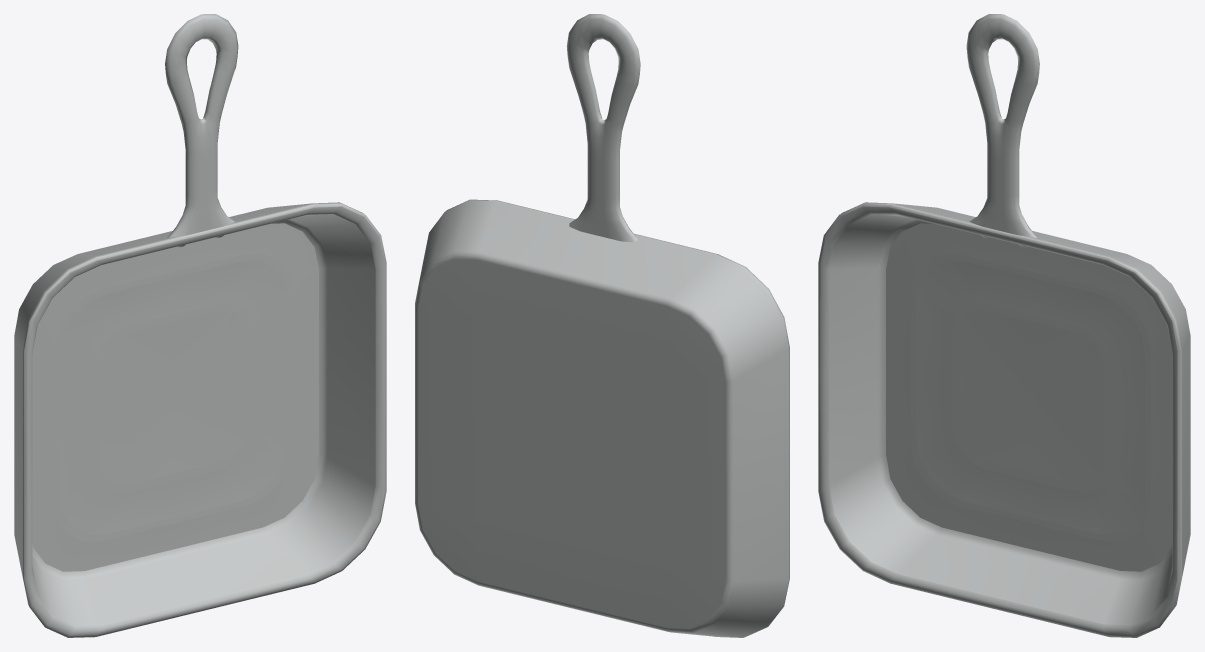
The model's file is MeshPan_4_0_GeomSubset_0.obj.
The picture shows the model from 3 angles, left to right: view 1: azimuth 30°, elevation 25°; view 2: azimuth 150°, elevation 25°; view 3: azimuth 330°, elevation 25°; orthographic projection.
Parts seen in each view (by area): view 1: MeshPan_4_0_GeomSubset_0; view 2: MeshPan_4_0_GeomSubset_0; view 3: MeshPan_4_0_GeomSubset_0.
Boxes of the visible parts, box(x1,y1,x2,y2) form: MeshPan_4_0_GeomSubset_0: box(14, 14, 386, 637); MeshPan_4_0_GeomSubset_0: box(415, 14, 789, 637); MeshPan_4_0_GeomSubset_0: box(818, 14, 1190, 637).
Size of the model in its own units: 0.269 by 0.4209 by 0.0459.
